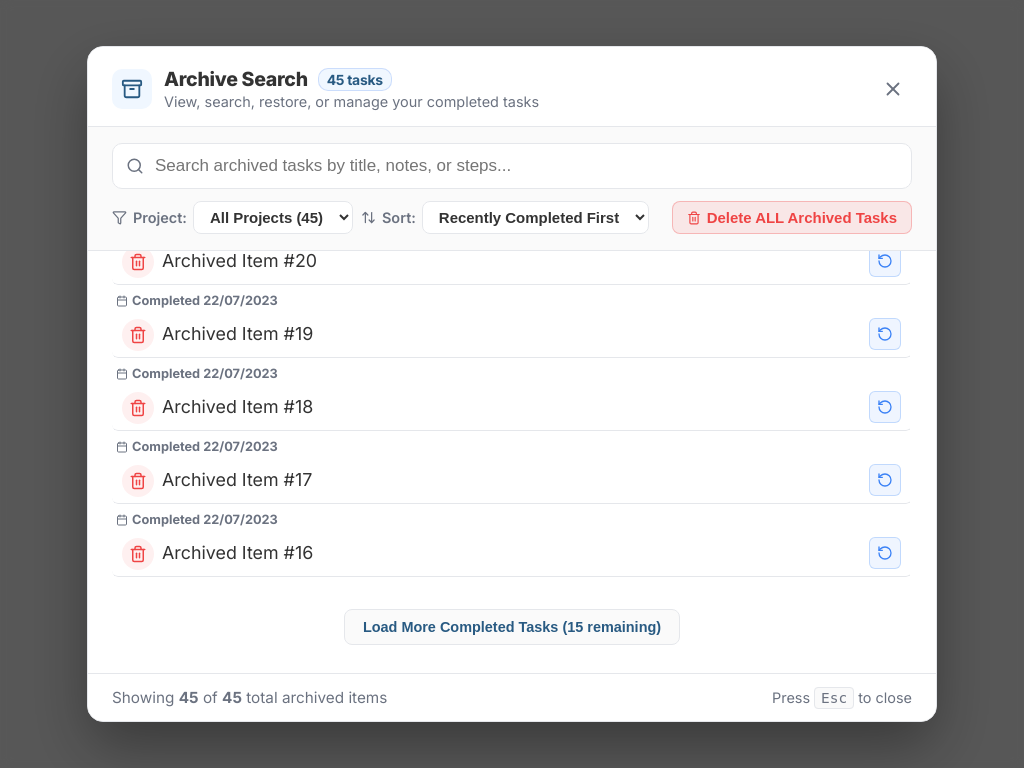
Scenario: progressively batches large archive lists and loads more upon click
(page scrolled)
Expected: the text "Archived Item #16" is shown, [162,542,313,563]
// Click Load More
Click the button "Load More Completed Tasks (15 remaining)": (512, 627) [344,609,680,645]
(page scrolled)
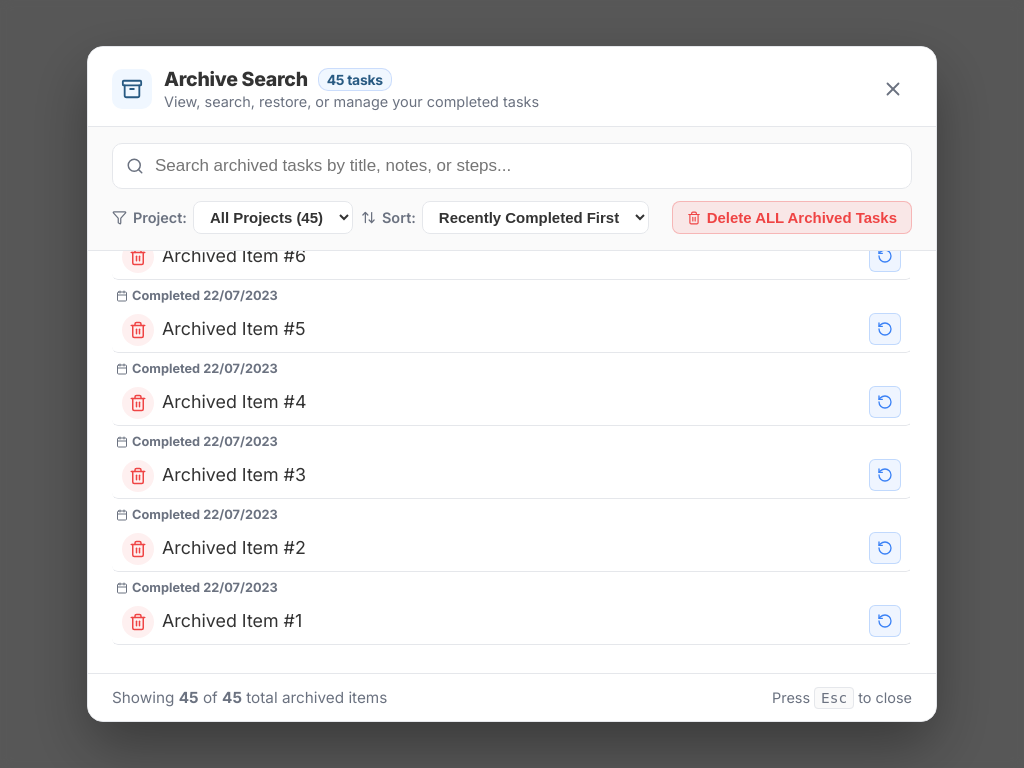
Expected: the text "Archived Item #1" is shown, [162,610,302,631]
Expected: the button "Load More Completed Tasks" is gone
